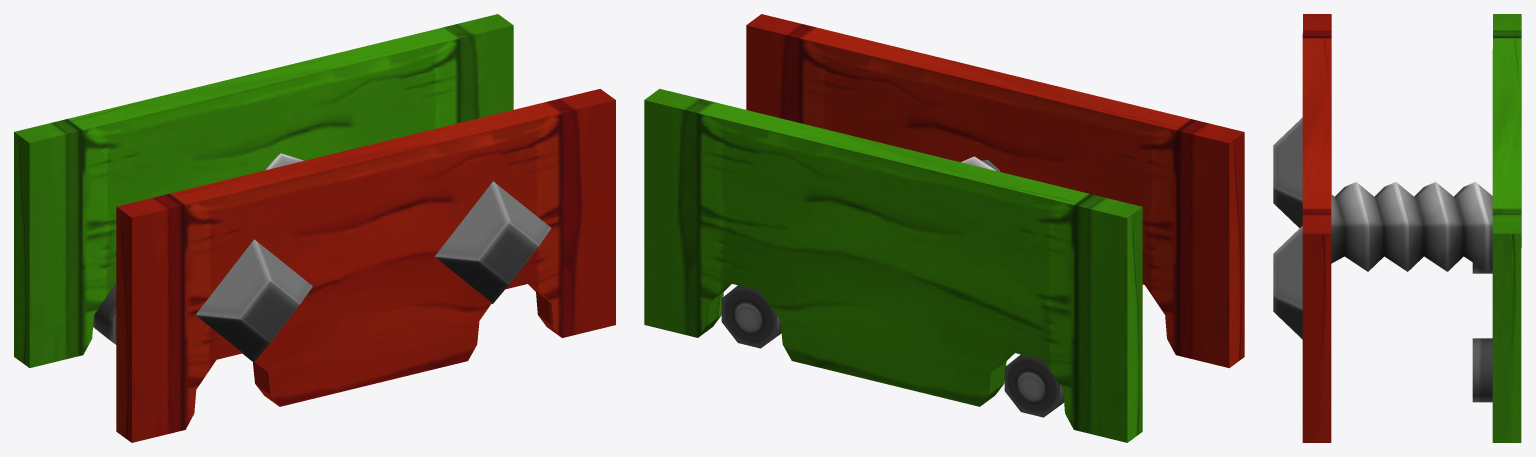
Rendered from dynamic_fence_burger_01.fbx.
3 views of the same model, side by side, from view 1: azimuth 30°, elevation 25°; view 2: azimuth 150°, elevation 25°; view 3: azimuth 270°, elevation 25° (orthographic). The views are drawn at different scales.
Visible parts, largest first — view 1: dynamic_fence_burger_01; view 2: dynamic_fence_burger_01; view 3: dynamic_fence_burger_01.
Boxes of the visible parts, <box> form: dynamic_fence_burger_01: <box>14,14,615,442</box>; dynamic_fence_burger_01: <box>644,14,1244,442</box>; dynamic_fence_burger_01: <box>1273,14,1521,442</box>.
Size of the model in its own units: 90.02 by 40 by 42.98.
